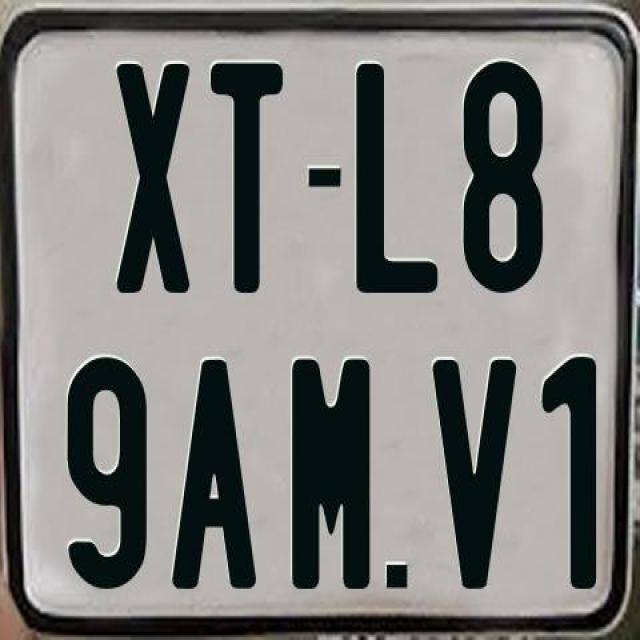1: (540, 355, 598, 587)
8: (458, 60, 538, 302)
9: (65, 357, 152, 597)
A: (168, 355, 260, 592)
L: (356, 61, 442, 294)
M: (288, 354, 367, 594)
T: (209, 62, 284, 301)
V: (433, 358, 520, 592)
X: (114, 64, 190, 293)
